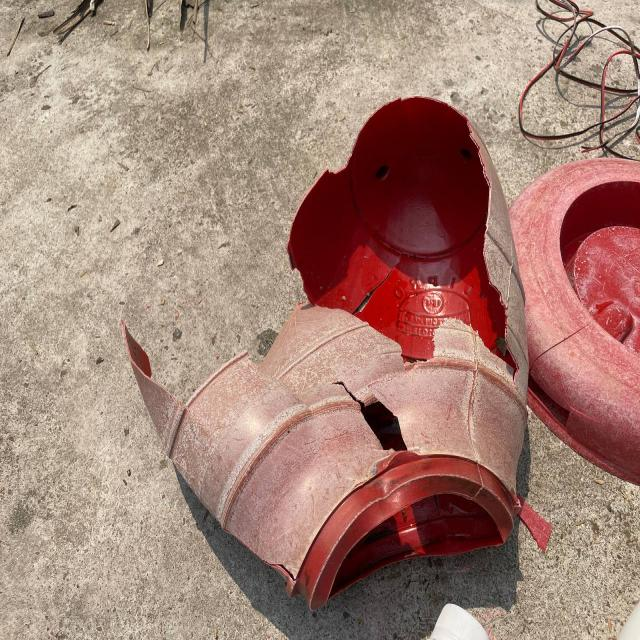Cable: (513, 0, 639, 156)
Plastics: (108, 98, 526, 609), (521, 148, 640, 498)
